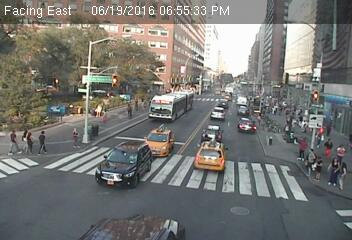neg: (308, 83, 325, 105), (106, 71, 121, 91), (46, 72, 57, 86), (52, 102, 62, 116), (169, 72, 177, 83), (279, 82, 286, 90)
pos: (324, 156, 346, 186), (1, 127, 23, 156), (300, 146, 322, 174), (311, 155, 330, 181), (32, 130, 51, 155), (335, 162, 351, 190), (67, 127, 84, 149), (121, 102, 136, 121), (23, 133, 37, 153), (323, 137, 337, 156), (313, 126, 327, 144), (336, 142, 349, 159), (98, 107, 111, 124), (21, 127, 32, 142), (94, 102, 104, 116), (297, 115, 307, 127)
